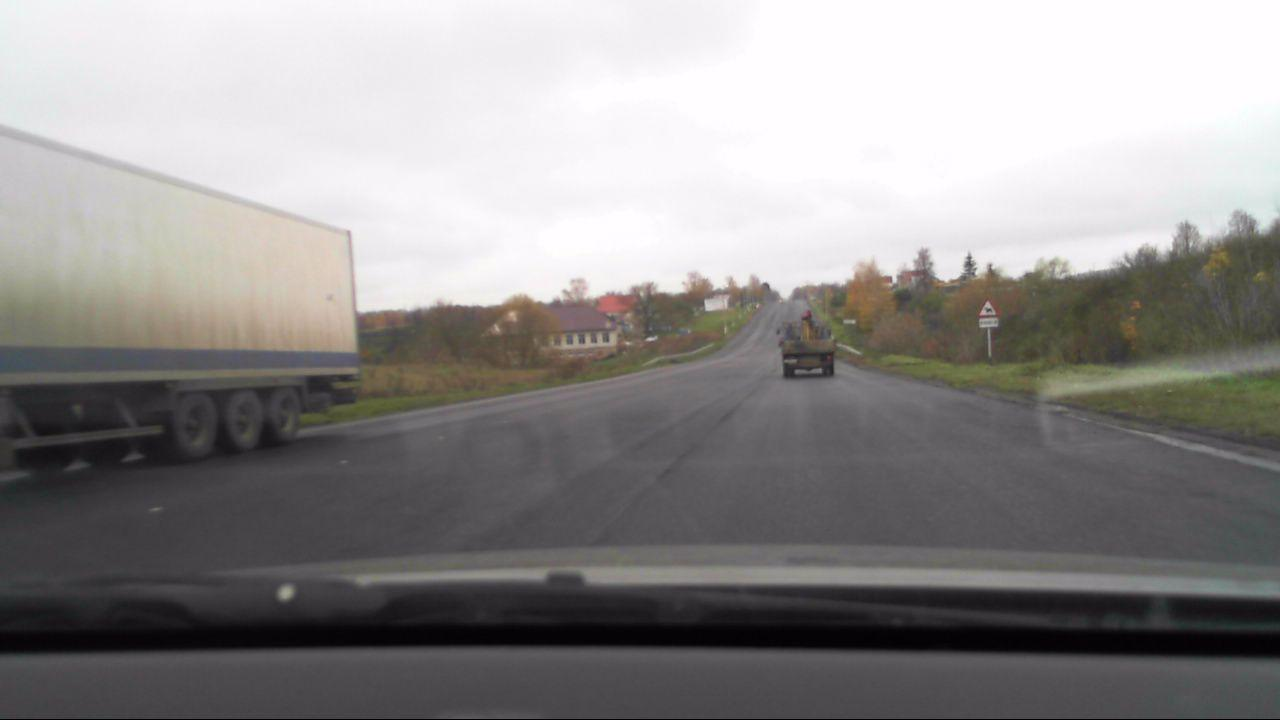1_26: (976, 299, 997, 317)
8_2_1: (979, 318, 999, 327)
